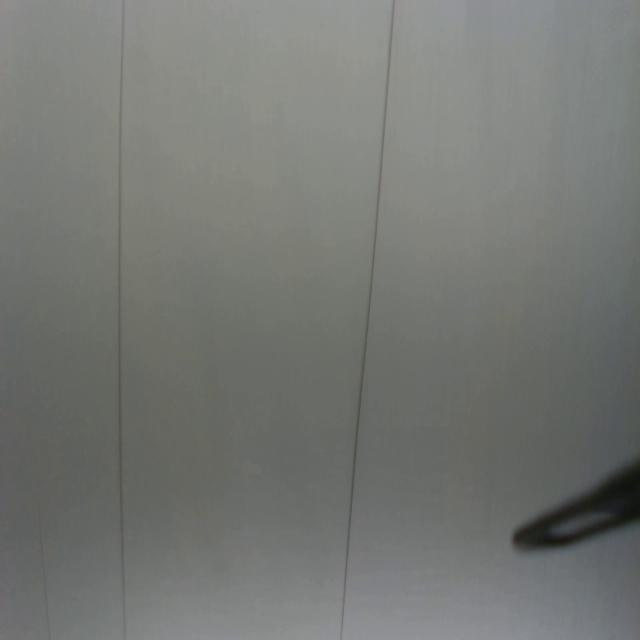crease: (338, 0, 397, 639), (112, 0, 129, 640), (37, 501, 52, 639)
